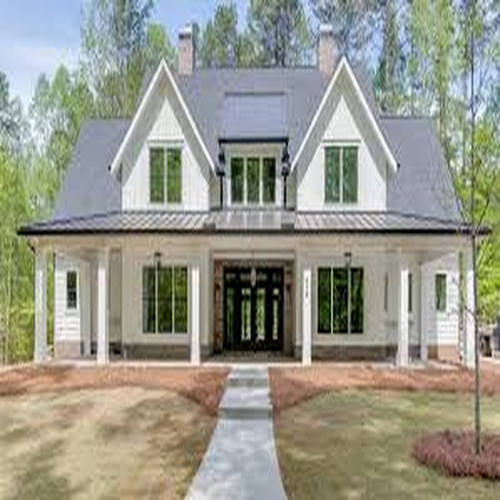Building House: (29, 15, 486, 375)
